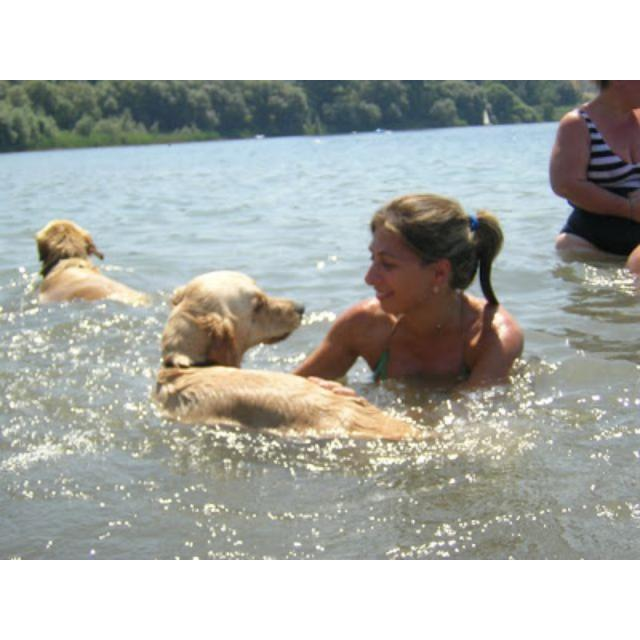human: (302, 189, 529, 409)
